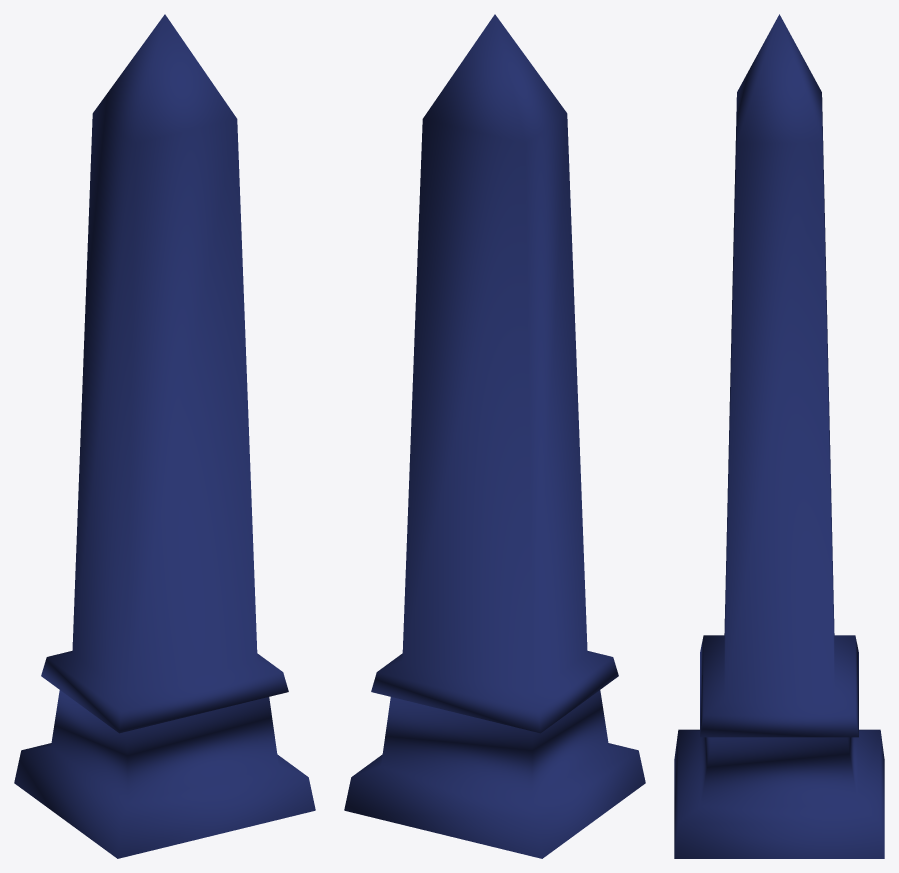
File: obelisk.fbx
3 renders of one model, left to right at view 1: azimuth 30°, elevation 25°; view 2: azimuth 150°, elevation 25°; view 3: azimuth 270°, elevation 25°, orthographic.
Parts seen in each view (by area): view 1: obelisk_low; view 2: obelisk_low; view 3: obelisk_low.
Part boxes in pixels (<box>): obelisk_low: <box>14,14,315,858</box>; obelisk_low: <box>344,14,645,858</box>; obelisk_low: <box>674,14,884,858</box>.
Size of the model in its own units: 2376 by 2150 by 8969.
